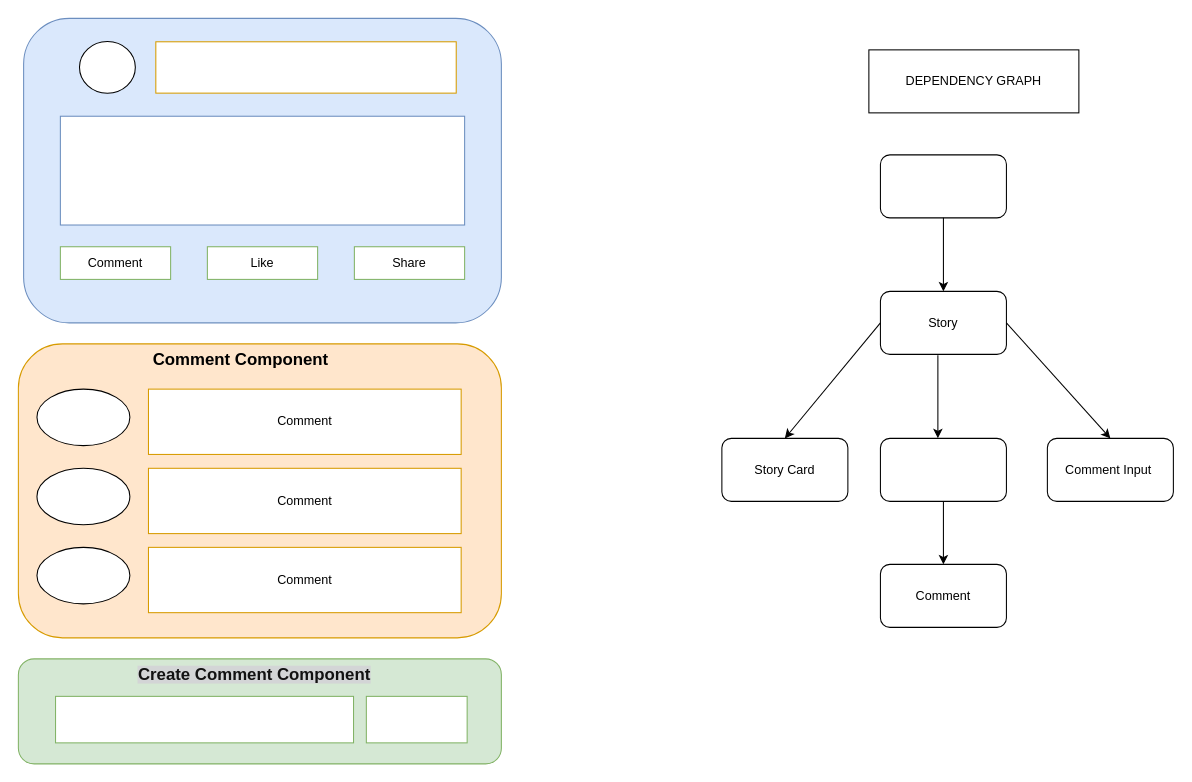
The diagram is 1192 pixels wide and 782 high, and some of its shapes have lost their labels. The shapes that lost their labels are listed below. From the top down, each one's centre as x and y in pixels, then its label:
At (305,67): "User Name".
At (262,170): "Content / Story Container".
At (942,186): "News Feed".
At (942,469): "Comment List".
At (204,719): "Text Box (Type Comment)".
At (416,719): "Action Button (Post)".
